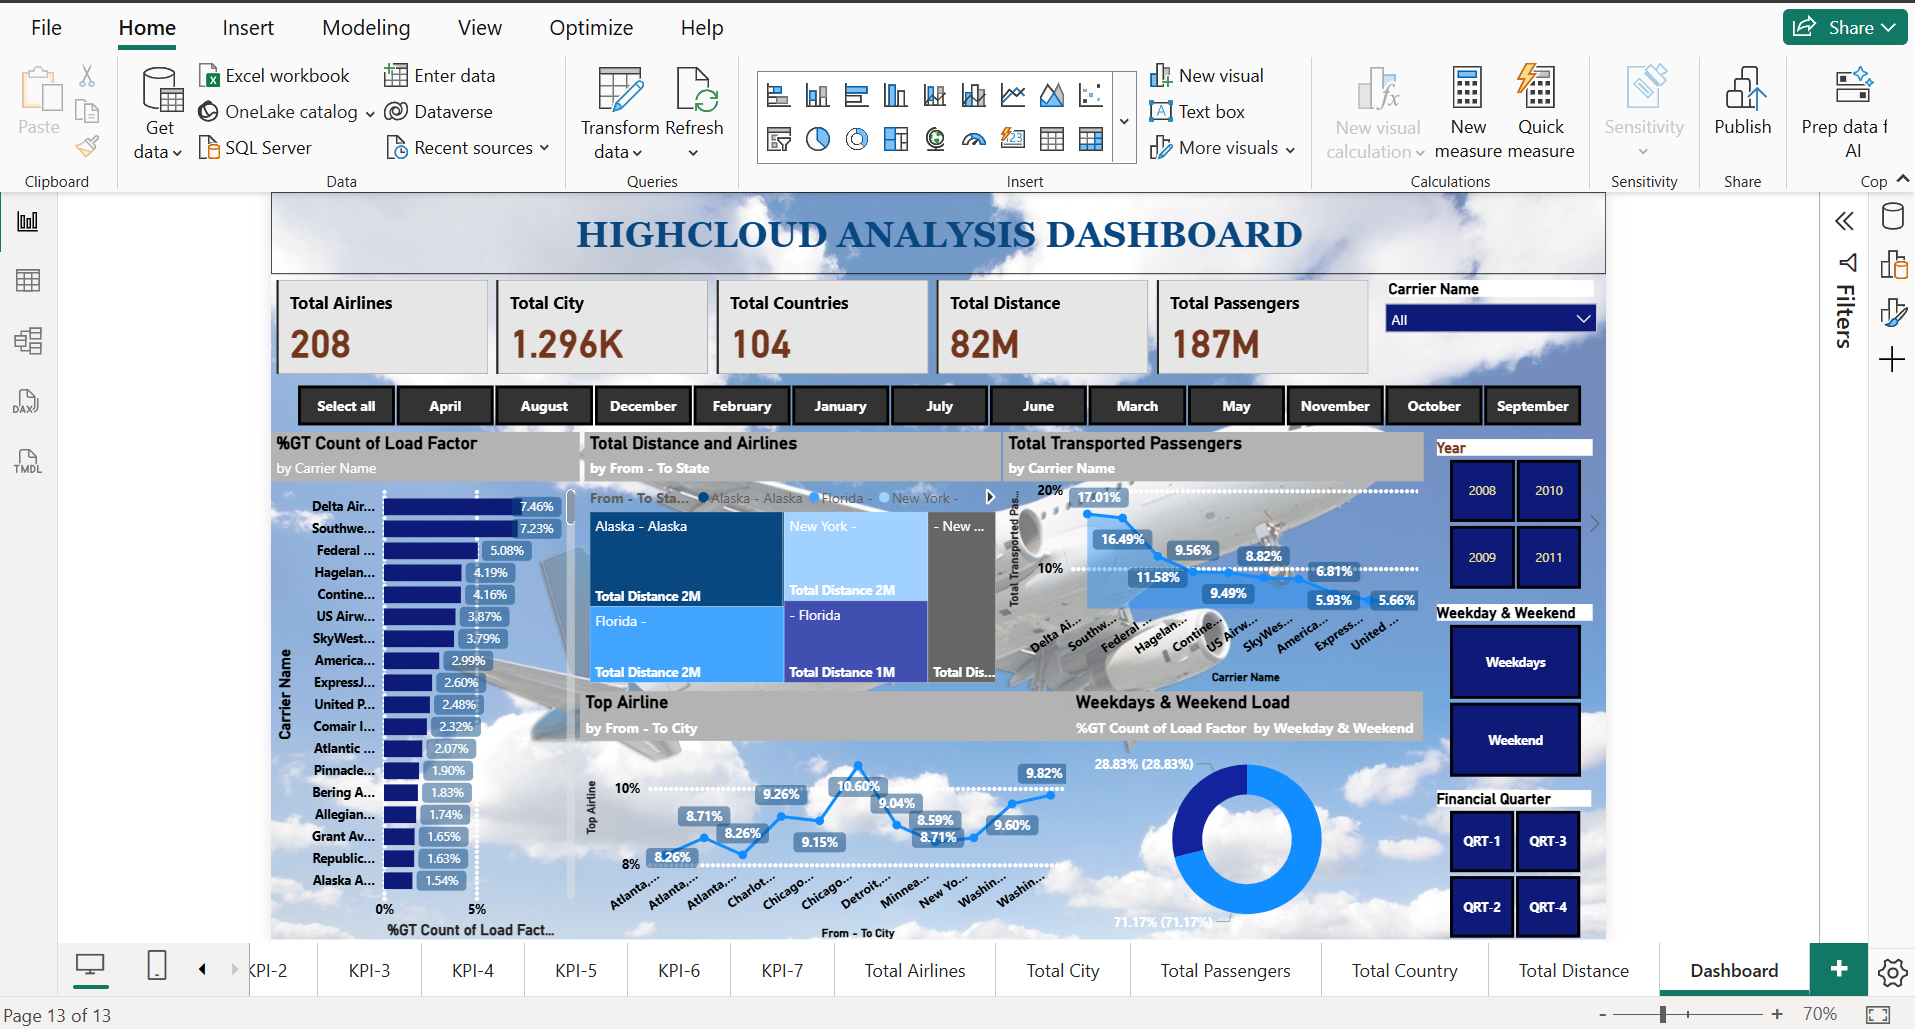

What the dashboard file says about the page in this screenshot:
{"tool":"tableau","page":{"name":"Dashboard","canvas":[1000,1000],"units":"permille","ordinal":0},"visuals":[{"type":"text","box":[5,9.1,890.3,66.1]},{"type":"text","box":[895.3,9.1,99.8,46.7]},{"type":"filter","title":"Quaterly","param":"[federated.07ergx20t0ou0o1g8bno91ignzut].[yr:Date:ok]","box":[895.3,55.8,99.8,170.8]},{"type":"worksheet","title":"KPI-Flights","mark":"Automatic","box":[5,75.2,231.1,135.5]},{"type":"worksheet","title":"KPI-Passengers","mark":"Automatic","box":[236.1,75.2,256.8,135.5]},{"type":"worksheet","title":"KPI-distance","mark":"Automatic","box":[492.9,75.2,210.4,135.5]},{"type":"worksheet","title":"KPI-Load_factor","mark":"Automatic","box":[703.3,75.2,192,135.5]},{"type":"worksheet","title":"Yearly ","mark":"Line","rows":["Calculation_0590780101451784"],"cols":["Date"],"box":[5,210.7,206.4,375.9]},{"type":"worksheet","title":"Quaterly","mark":"Bar","rows":["Calculation_0590780101451784"],"cols":["Date","Date"],"box":[211.3,210.7,170.2,375.9]},{"type":"worksheet","title":"Flight Map","mark":"Automatic","box":[381.6,210.7,260.6,375.9]},{"type":"worksheet","title":"month","mark":"Line","rows":["Calculation_0590780101451784"],"cols":["Date"],"box":[642.1,210.7,253.1,375.9]},{"type":"filter","title":"month","param":"[federated.07ergx20t0ou0o1g8bno91ignzut].[none:Calculation_0590780090060801:nk]","box":[895.3,226.7,99.8,435.1]},{"type":"worksheet","title":"Top Routes","mark":"Automatic","rows":["Calculation_0340091721400322"],"cols":["Calculation_0340091721400322"],"box":[5,586.6,304.2,404.3]},{"type":"worksheet","title":"Weekend vs Weekday Load Factor Analysis ","mark":"Pie","box":[309.2,586.6,171.1,404.3]},{"type":"worksheet","title":"Top 10 carriers","mark":"Bar","rows":["Carrier Name"],"cols":["Transported Passengers"],"box":[480.3,586.6,415,404.3]},{"type":"filter","title":"Top Routes","param":"[federated.07ergx20t0ou0o1g8bno91ignzut].[none:Datasource ID:nk]","box":[895.3,661.7,99.8,79.7]},{"type":"filter","title":"Top Routes","param":"[federated.07ergx20t0ou0o1g8bno91ignzut].[none:Origin Country:nk]","box":[895.3,741.5,99.8,79.7]},{"type":"filter","title":"Top Routes","param":"[federated.07ergx20t0ou0o1g8bno91ignzut].[none:Service Class ID:nk]","box":[895.3,821.2,99.8,79.7]},{"type":"filter","title":"Top Routes","param":"[federated.07ergx20t0ou0o1g8bno91ignzut].[none:Region Code:nk]","box":[895.3,900.9,99.8,90]}]}

Visuals, with their boxes on the dashboard's canvas, which has no fixed pixel size, in thousandths of its width and height (x1, y1, x2, y2). These are canvas units, not pixel positions in the 1915x1029 screenshot, which may show the page scaled, cropped or inside an application window:
text: bbox(5, 9, 895, 75)
text: bbox(895, 9, 995, 56)
"Quaterly" filter: bbox(895, 56, 995, 227)
"KPI-Flights" worksheet: bbox(5, 75, 236, 211)
"KPI-Passengers" worksheet: bbox(236, 75, 493, 211)
"KPI-distance" worksheet: bbox(493, 75, 703, 211)
"KPI-Load_factor" worksheet: bbox(703, 75, 895, 211)
"Yearly " worksheet (Line marks): bbox(5, 211, 211, 587)
"Quaterly" worksheet (Bar marks): bbox(211, 211, 382, 587)
"Flight Map" worksheet: bbox(382, 211, 642, 587)
"month" worksheet (Line marks): bbox(642, 211, 895, 587)
"month" filter: bbox(895, 227, 995, 662)
"Top Routes" worksheet: bbox(5, 587, 309, 991)
"Weekend vs Weekday Load Factor Analysis " worksheet (Pie marks): bbox(309, 587, 480, 991)
"Top 10 carriers" worksheet (Bar marks): bbox(480, 587, 895, 991)
"Top Routes" filter: bbox(895, 662, 995, 741)
"Top Routes" filter: bbox(895, 742, 995, 821)
"Top Routes" filter: bbox(895, 821, 995, 901)
"Top Routes" filter: bbox(895, 901, 995, 991)
